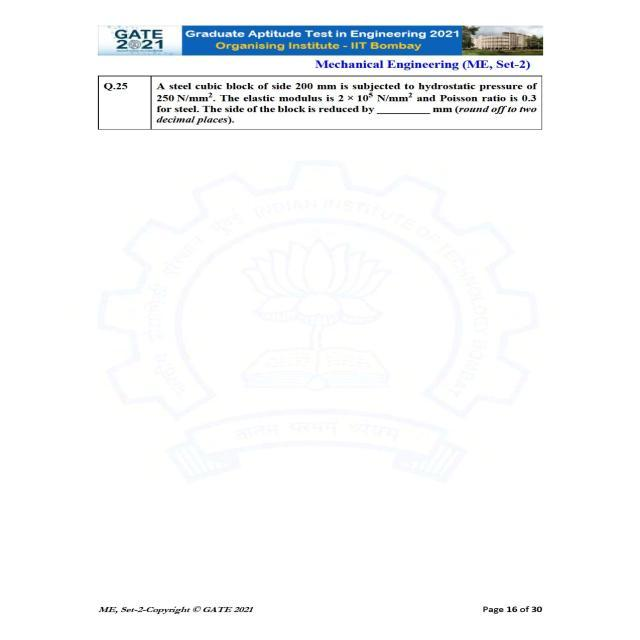Question_Answer_Block: (55, 69, 563, 144)
Question_Block: (55, 69, 563, 144)
Question_Paper_Area: (55, 70, 563, 404)
